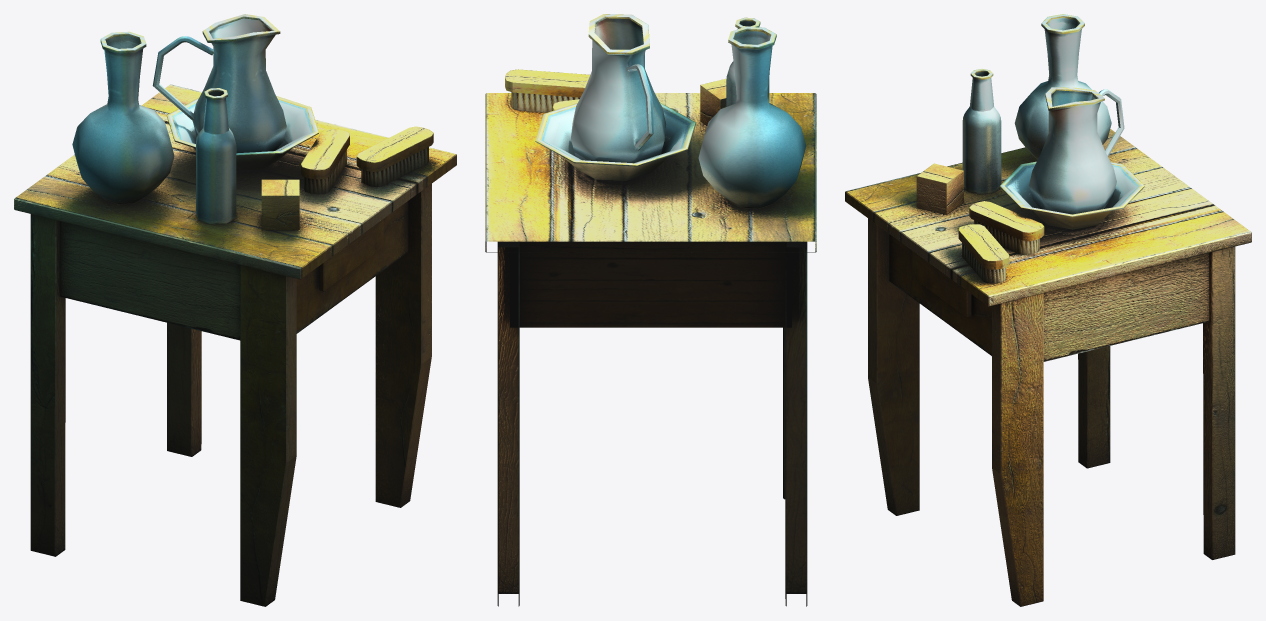
The model's file is Table.obj.
The picture shows the model from 3 angles, left to right: view 1: azimuth 30°, elevation 25°; view 2: azimuth 150°, elevation 25°; view 3: azimuth 270°, elevation 25°; orthographic projection. The views are drawn at different scales.
Visible parts, largest first — view 1: table; view 2: table; view 3: table.
Part boxes in pixels (x1,y1,x2,y2): table: [14, 14, 456, 606]; table: [485, 14, 816, 606]; table: [845, 14, 1251, 606].
Bounding box in the file's own units: 0.925 × 1.19 × 0.9386.
